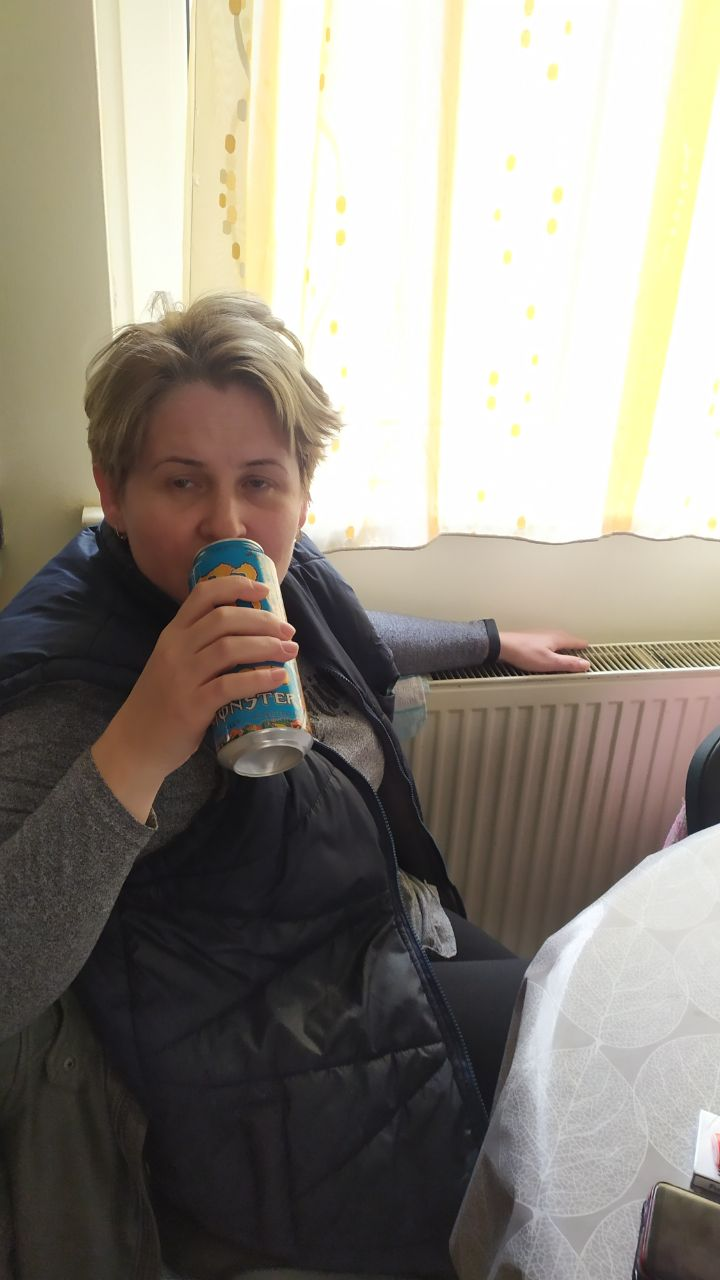Can: (192, 533, 312, 780)
